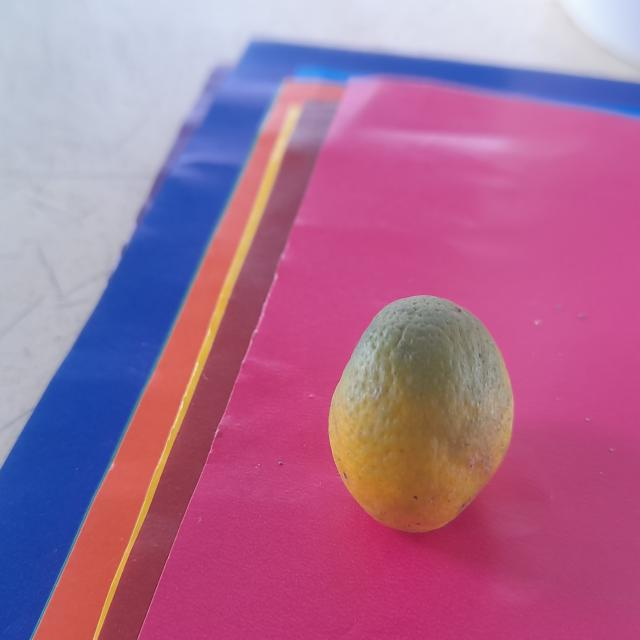greening: (334, 289, 516, 524)
